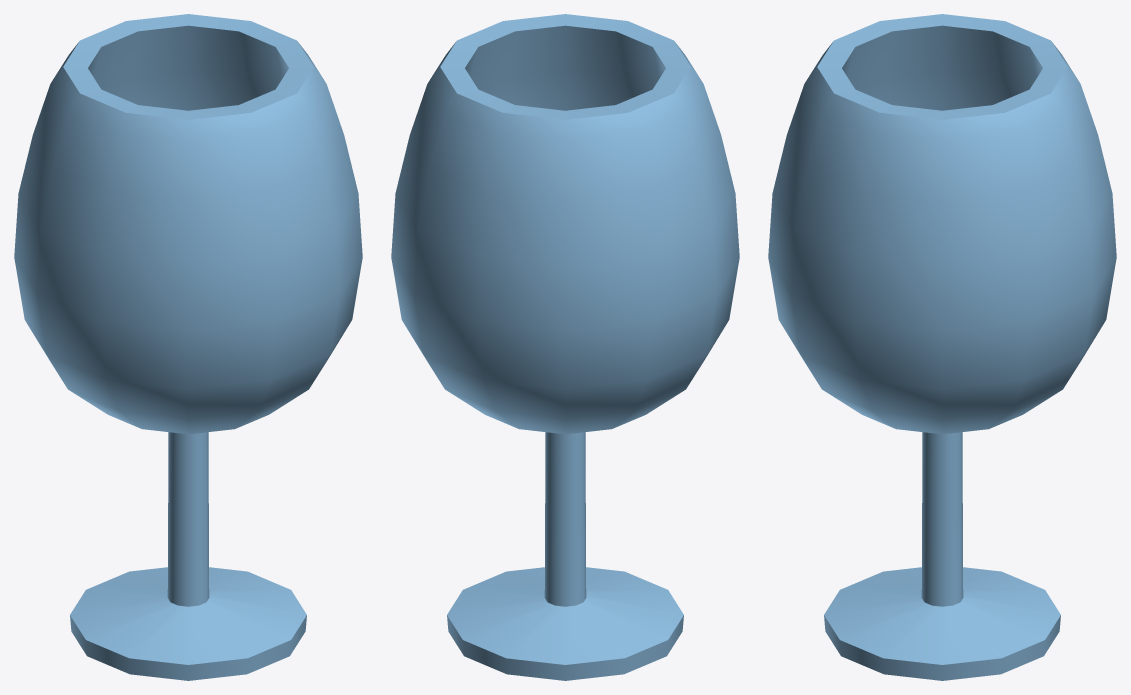
Rendered from Glass_Wine_01.fbx.
3 views of the same model, side by side, from view 1: azimuth 30°, elevation 25°; view 2: azimuth 150°, elevation 25°; view 3: azimuth 270°, elevation 25° (orthographic).
Visible parts, largest first — view 1: Glass_Wine_01; view 2: Glass_Wine_01; view 3: Glass_Wine_01.
Part boxes in pixels (bbox=[...]): Glass_Wine_01: bbox=[14, 14, 362, 680]; Glass_Wine_01: bbox=[391, 14, 739, 680]; Glass_Wine_01: bbox=[768, 14, 1116, 680].
Size of the model in its own units: 23.42 by 42.02 by 23.42.
